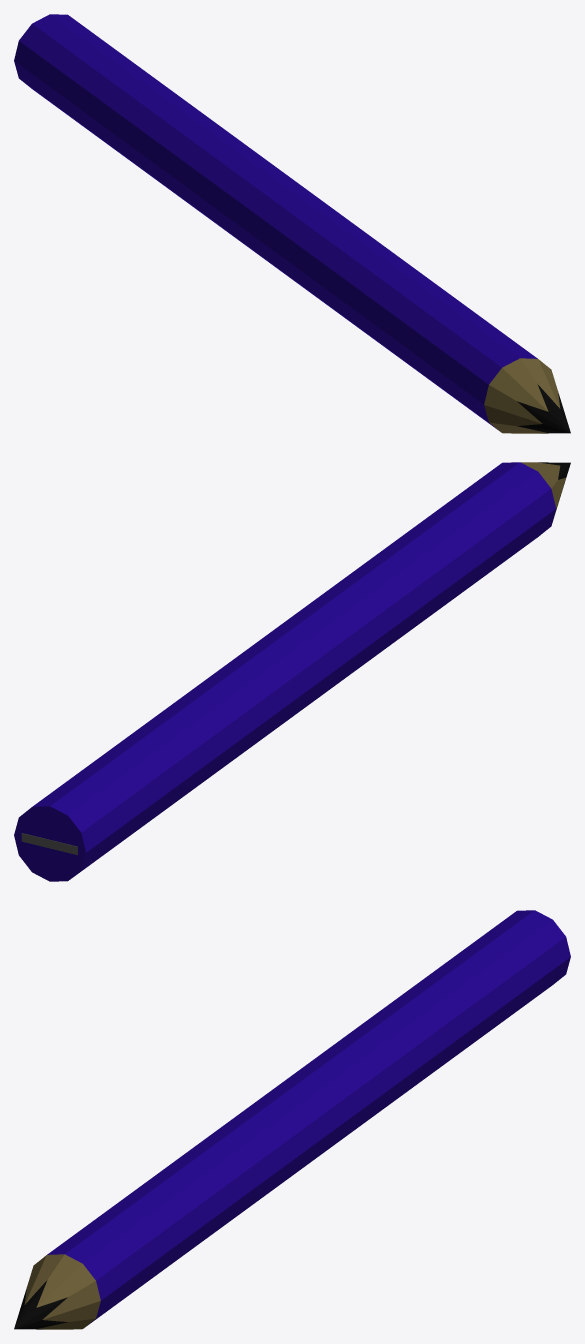
The model's file is purple.obj.
The picture shows the model from 3 angles, top to bottom: view 1: azimuth 30°, elevation 25°; view 2: azimuth 150°, elevation 25°; view 3: azimuth 330°, elevation 25°; orthographic projection.
Visible parts, largest first — view 1: purplepencil; view 2: purplepencil; view 3: purplepencil.
Part boxes in pixels (x1,y1,x2,y2): purplepencil: [14, 14, 570, 433]; purplepencil: [14, 462, 570, 881]; purplepencil: [14, 910, 570, 1329].
Bounding box in the file's own units: 0.02 × 0.02 × 0.2501.
